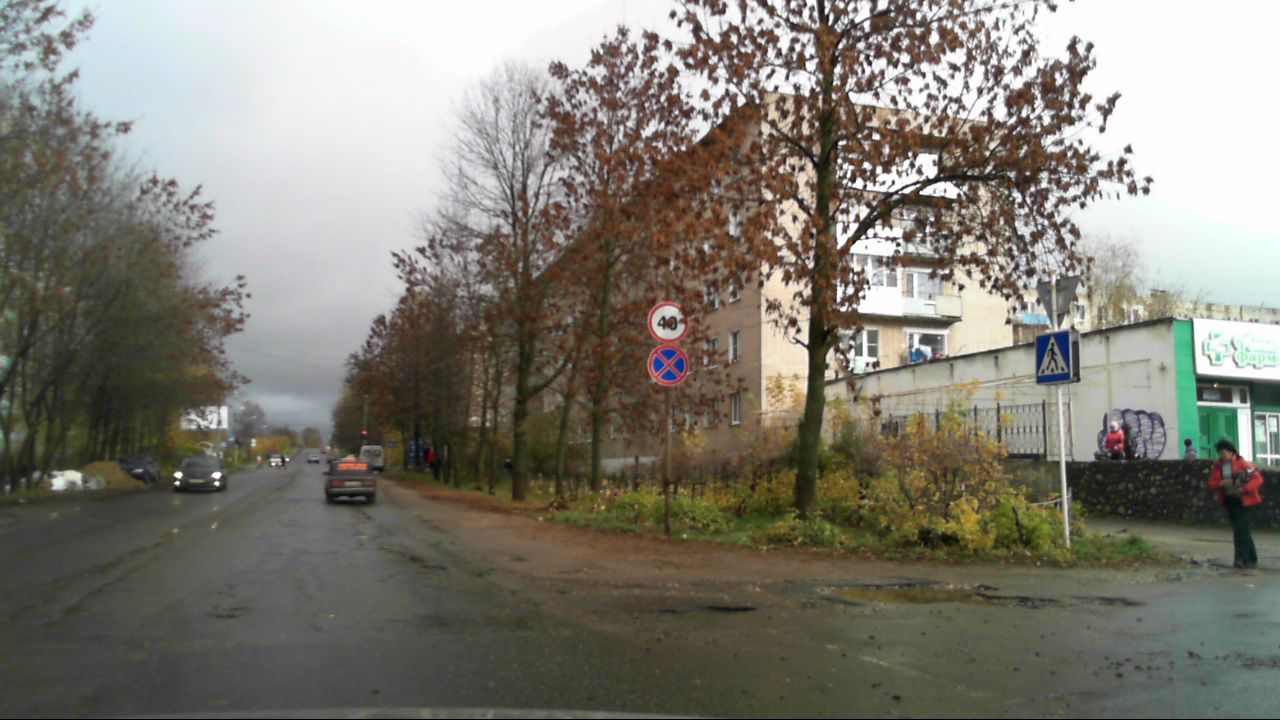No Parking: (647, 345, 687, 384)
speed_warning_40: (647, 303, 687, 341)
